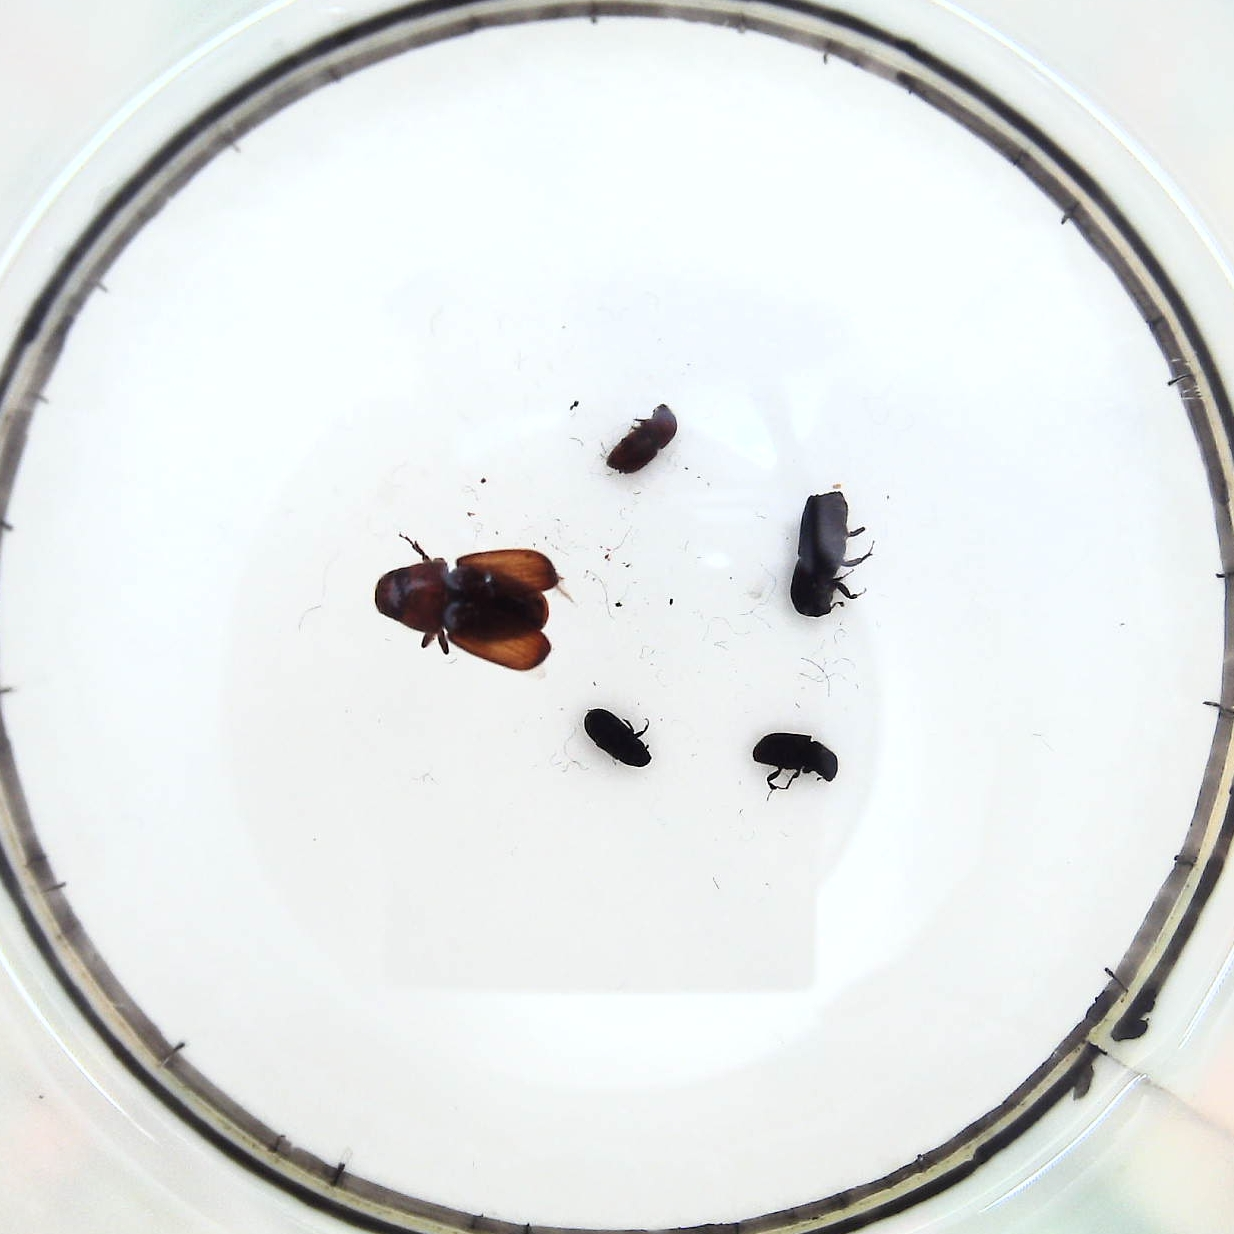Boerner: (788, 488, 853, 617)
Leconte: (371, 546, 559, 674)
Linnaeus: (605, 403, 680, 476)
armandi: (751, 728, 840, 791)
coleoptera: (580, 706, 653, 773)
